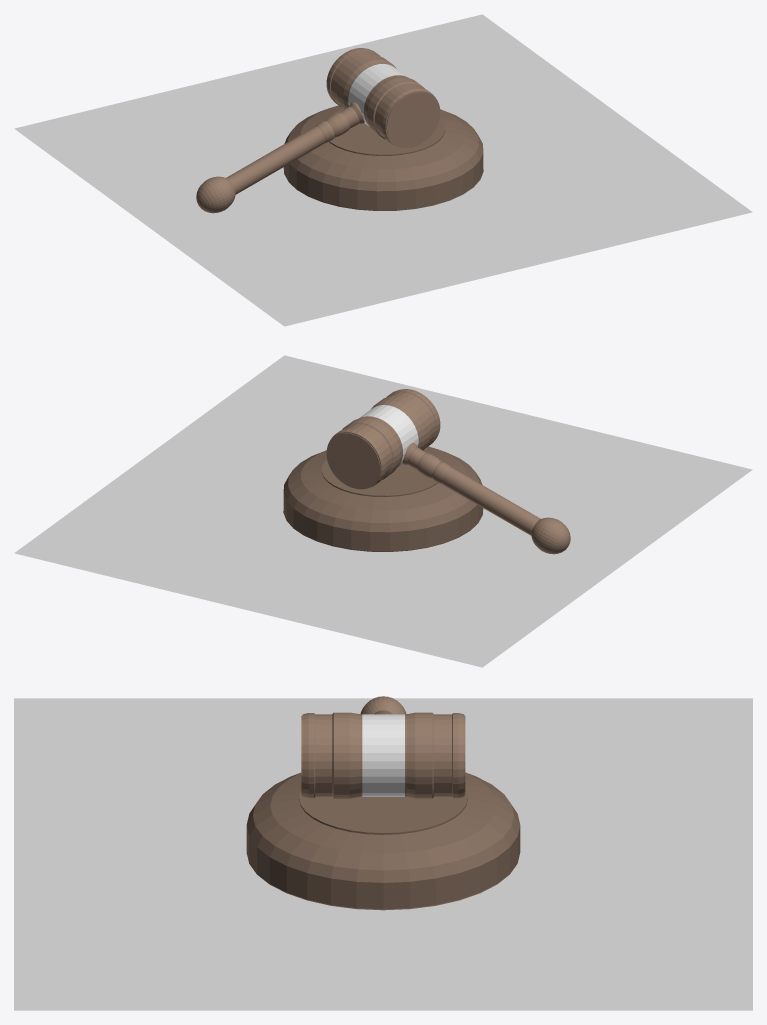
File: Gavel 2.fbx
3 views of the same model, one above another, from view 1: azimuth 30°, elevation 25°; view 2: azimuth 150°, elevation 25°; view 3: azimuth 270°, elevation 25° (orthographic). The views are drawn at different scales.
Parts seen in each view (by area): view 1: Plane, Cylinder, Cylinder.001; view 2: Plane, Cylinder, Cylinder.001; view 3: Plane, Cylinder, Cylinder.001.
Part boxes in pixels (<box>): Plane: <box>14,14,752,326</box>; Cylinder: <box>283,105,483,210</box>; Cylinder.001: <box>196,48,440,213</box>; Plane: <box>14,355,752,667</box>; Cylinder: <box>283,446,483,551</box>; Cylinder.001: <box>326,389,570,554</box>; Plane: <box>14,698,752,1010</box>; Cylinder: <box>246,772,520,910</box>; Cylinder.001: <box>301,696,465,798</box>.
Bounding box in the file's own units: 1407 × 290 × 1407.
